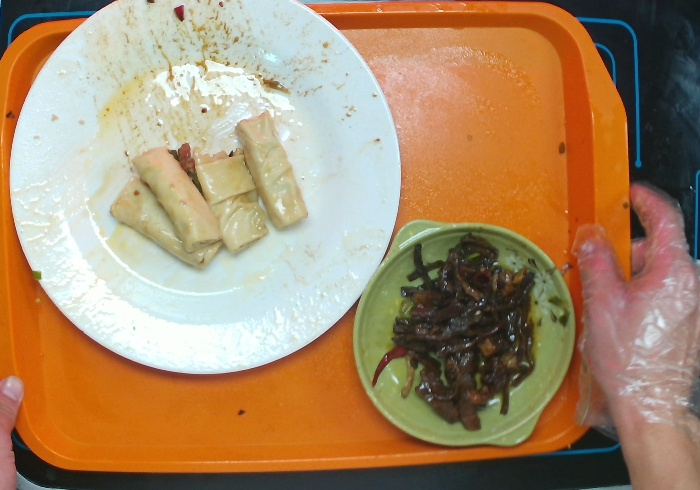NLDX-Da_Yuan_Pan: (6, 1, 403, 380)
NLDX-Lv_Hua_Shuang_Er_Die: (347, 214, 582, 454)
